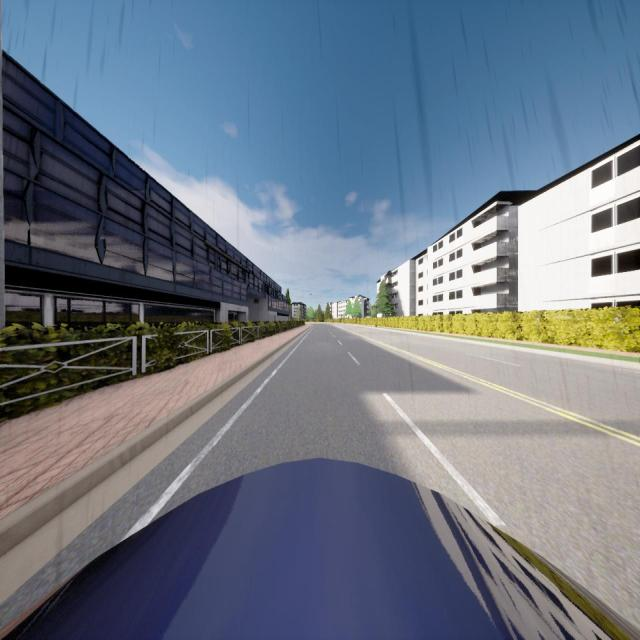Vehicle: (0, 455, 640, 640)
